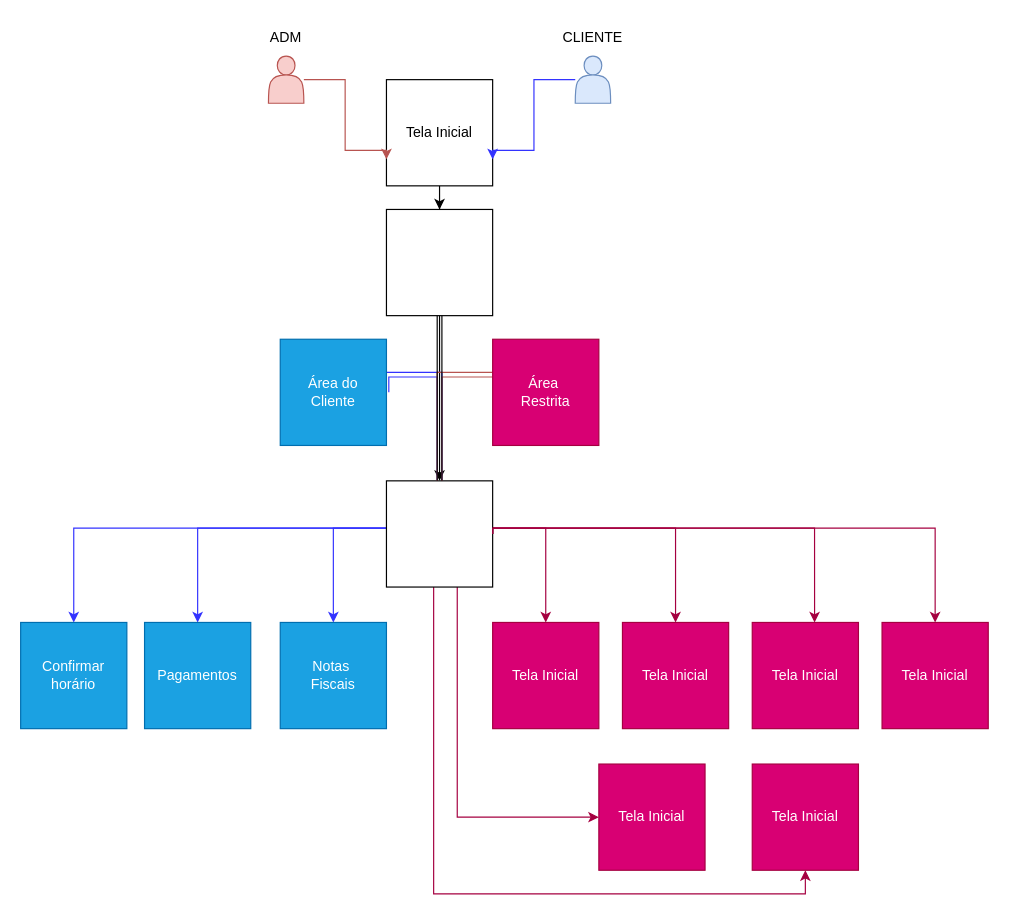
The diagram is 1009 pixels wide and 924 high, and some of its shapes have lost their labels. The centre of each missing label's shape, as x and y in pixels:
"Login" goes at [439,533].
"Menu" goes at [439,262].
